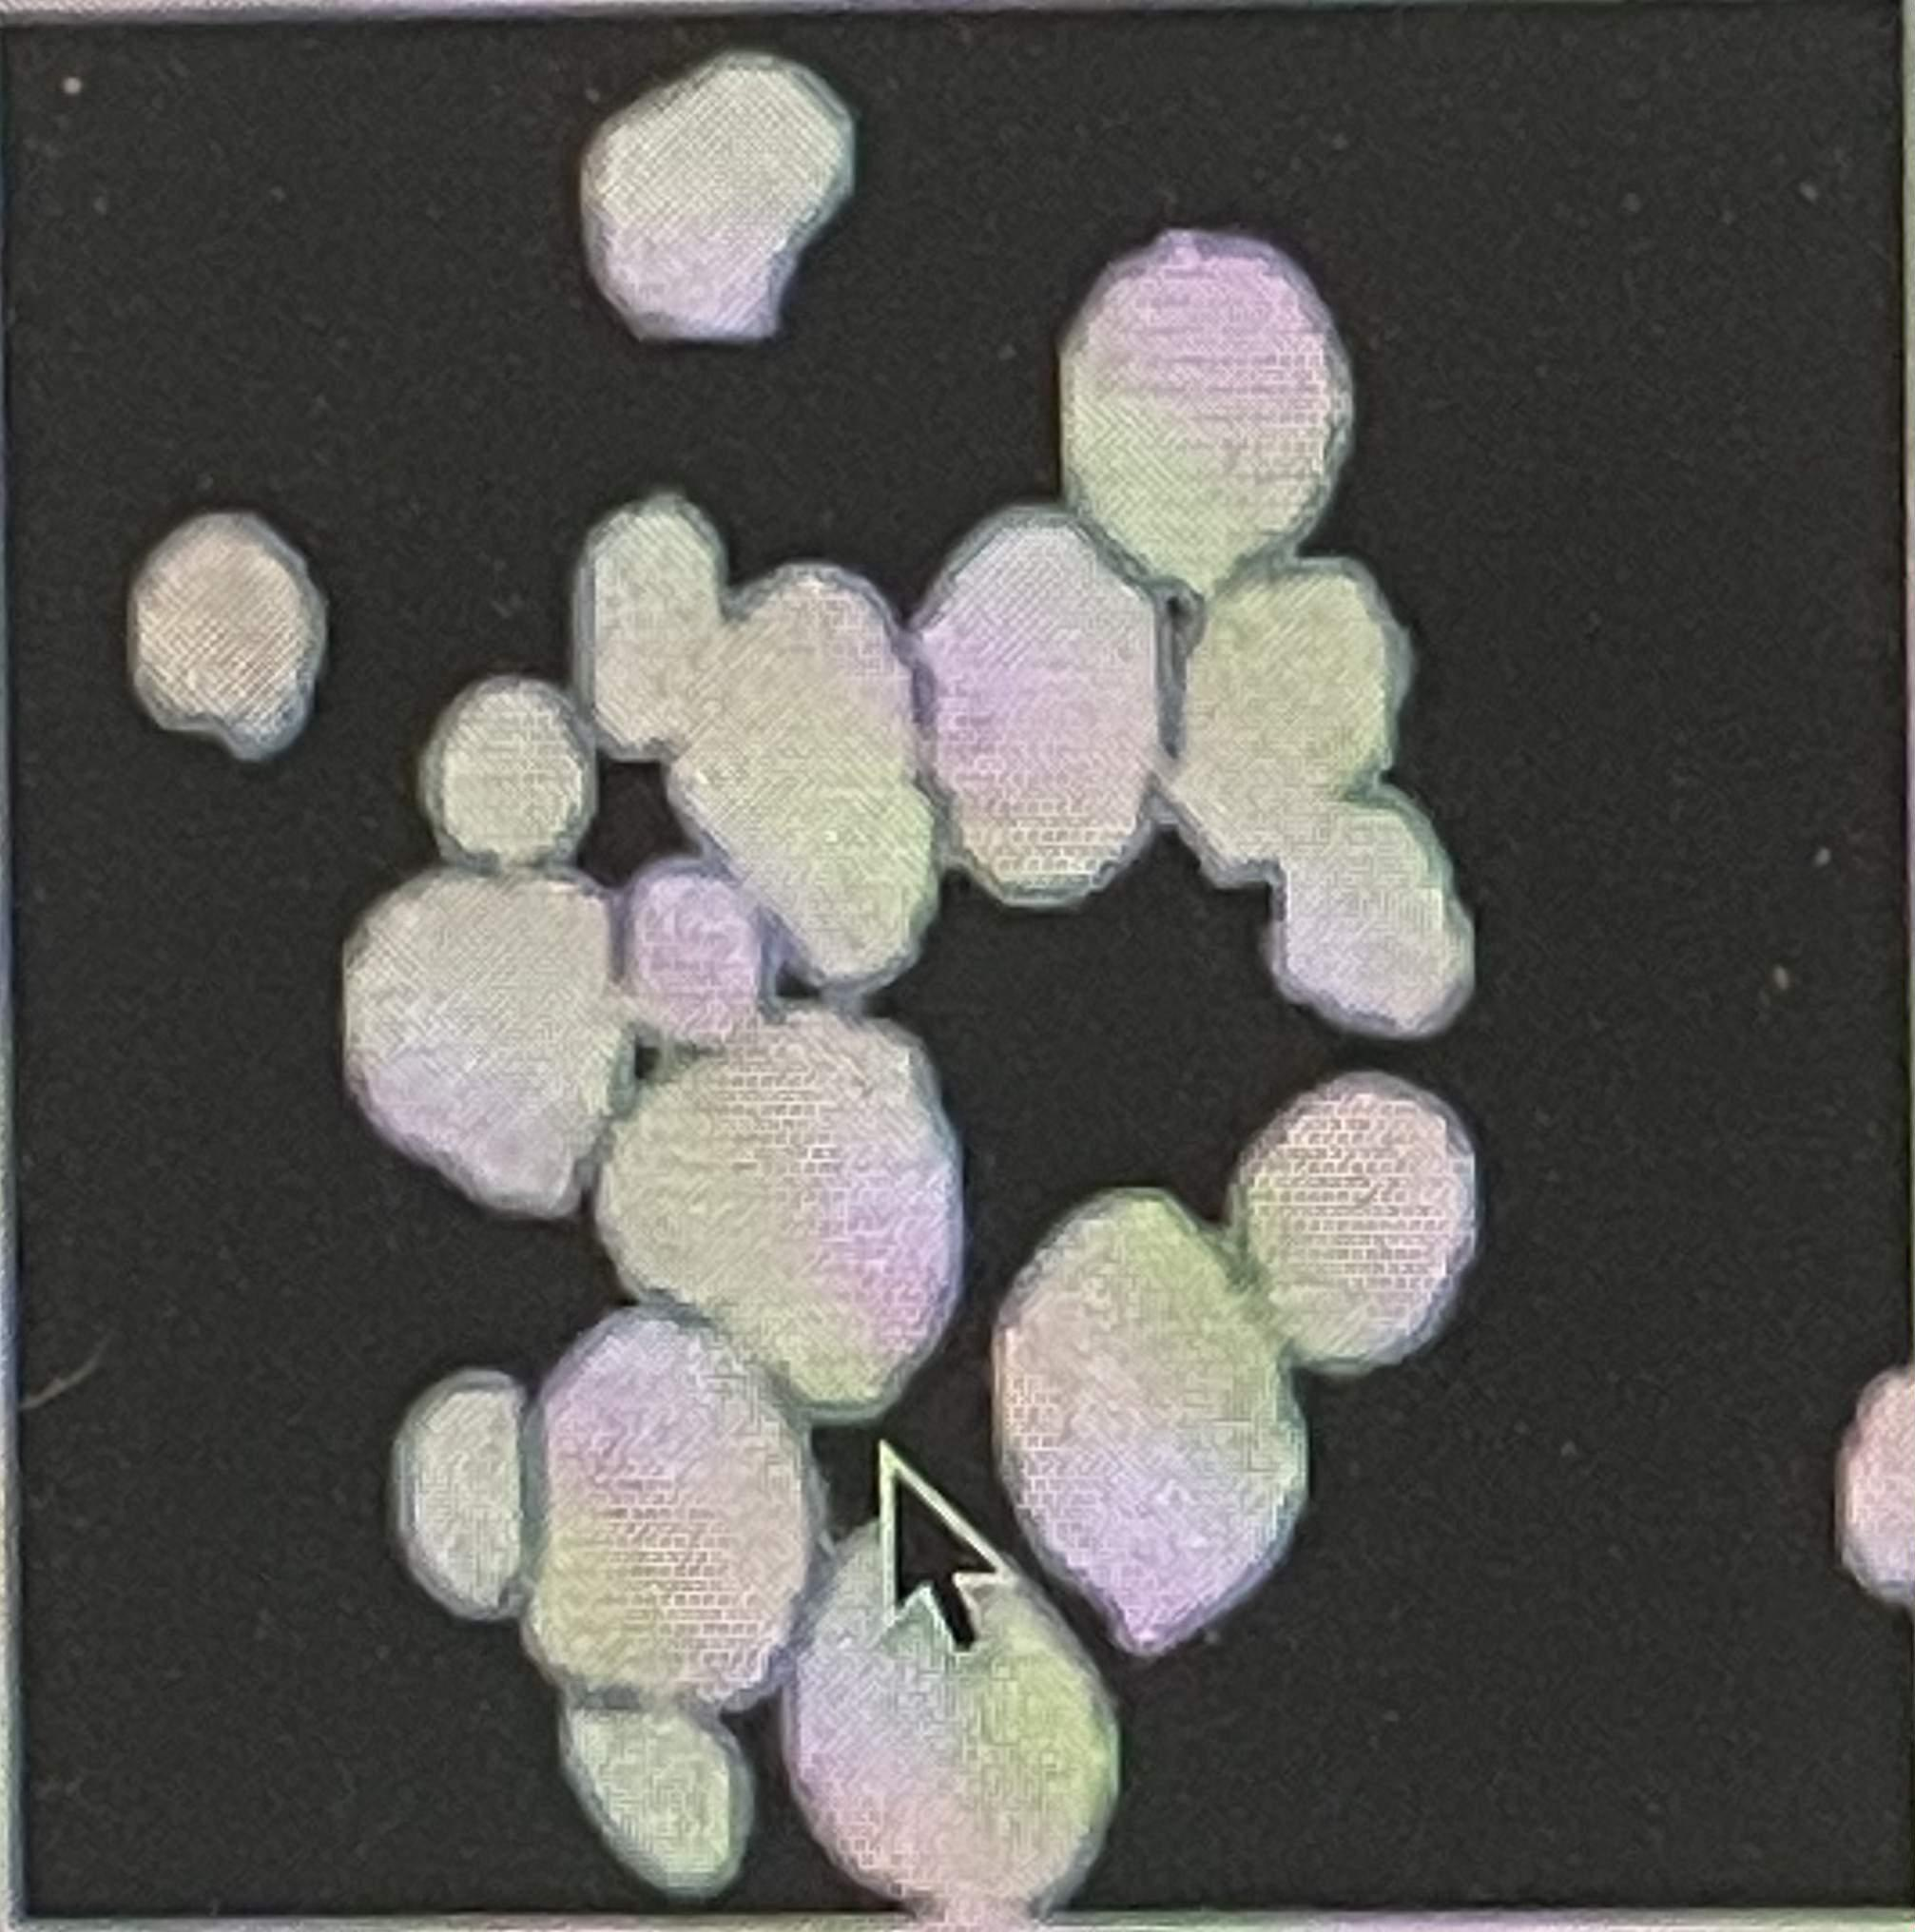cell: (993, 1073, 1478, 1659), (388, 1308, 821, 1900), (573, 493, 938, 994), (780, 1445, 1121, 1932), (594, 1006, 963, 1424), (1163, 558, 1477, 1038), (1061, 228, 1356, 594), (342, 868, 633, 1220), (915, 505, 1161, 908), (580, 49, 854, 340), (126, 510, 324, 761), (416, 675, 596, 870), (621, 857, 763, 1048), (1840, 1366, 1915, 1613)
